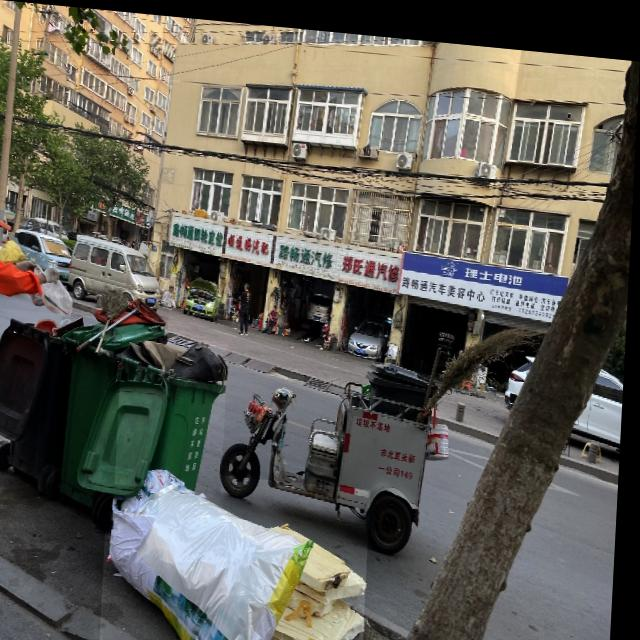garbage: (106, 462, 376, 640)
overflow: (58, 281, 173, 512), (120, 332, 232, 490), (0, 307, 87, 483)
